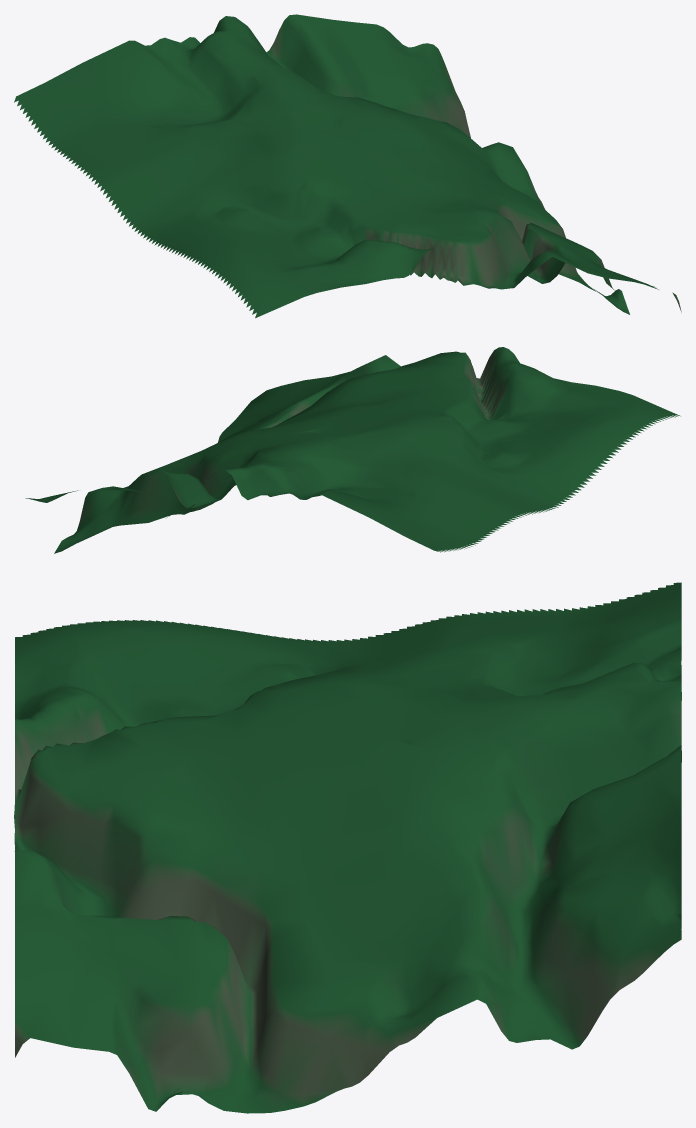
File: payo_land_x1_y0_lod2.glb
3 renders of one model, top to bottom at view 1: azimuth 30°, elevation 25°; view 2: azimuth 150°, elevation 25°; view 3: azimuth 270°, elevation 25°, orthographic. The views are drawn at different scales.
Visible parts, largest first — view 1: payo_land_x1_y0; view 2: payo_land_x1_y0; view 3: payo_land_x1_y0.
Boxes of the visible parts, x1,y1,x2,y2 form: payo_land_x1_y0: [14, 14, 681, 318]; payo_land_x1_y0: [25, 347, 680, 553]; payo_land_x1_y0: [14, 582, 681, 1113].
Size of the model in its own units: 258 by 122 by 255.
